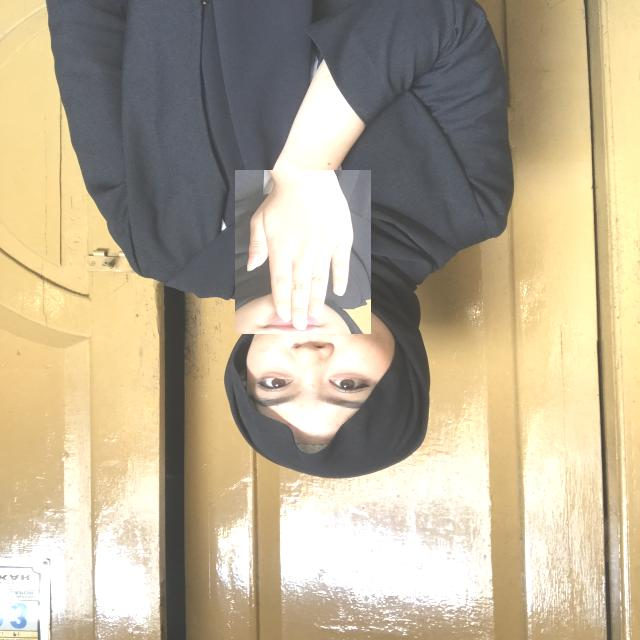ganteng: (235, 170, 371, 334)
